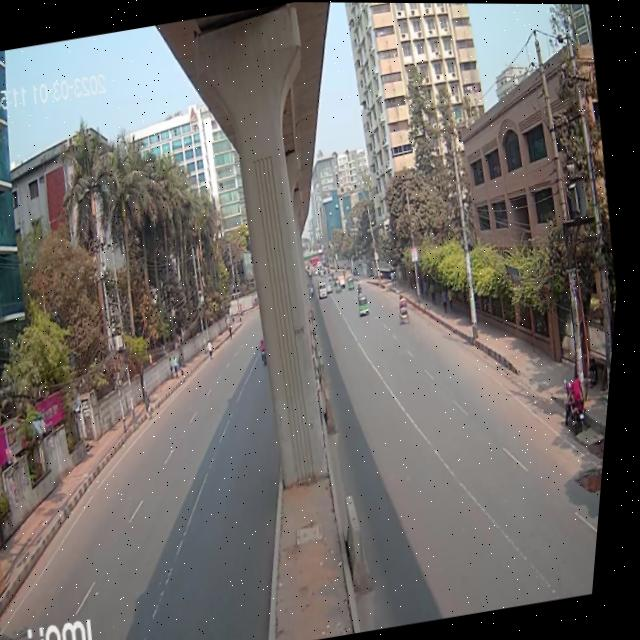cng: (359, 287, 378, 321)
